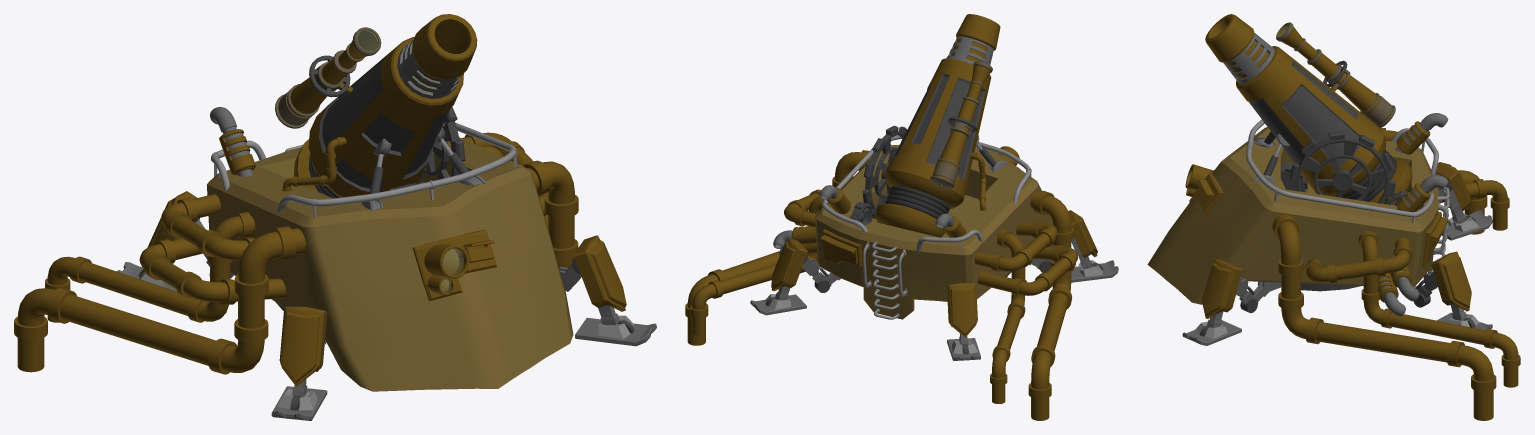
The model's file is SM_mortier_color.fbx.
3 views of the same model, side by side, from view 1: azimuth 30°, elevation 25°; view 2: azimuth 150°, elevation 25°; view 3: azimuth 270°, elevation 25° (orthographic). The views are drawn at different scales.
Visible parts, largest first — view 1: polySurface8561; view 2: polySurface8561; view 3: polySurface8561.
Part boxes in pixels (box(x1,y1,x2,y2)): polySurface8561: box(14, 14, 656, 420); polySurface8561: box(685, 14, 1118, 420); polySurface8561: box(1147, 14, 1520, 420).
Size of the model in its own units: 3.96 by 2.99 by 3.25.
